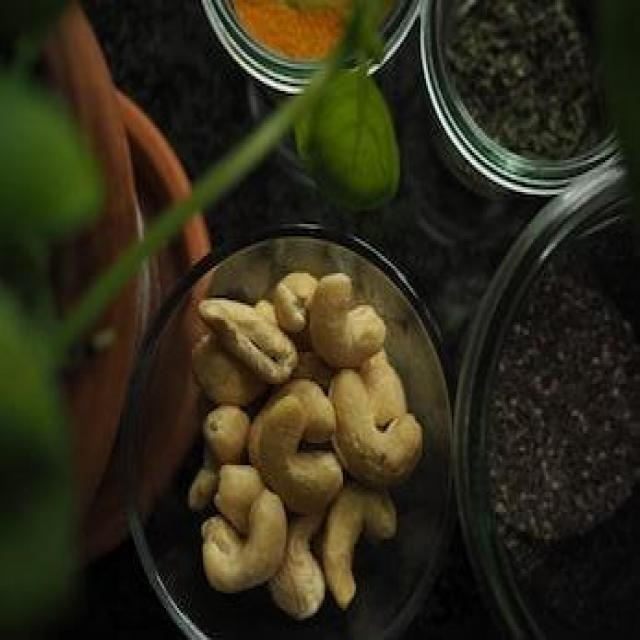Cashew: (331, 356, 424, 488), (209, 297, 296, 388), (271, 385, 325, 498), (314, 285, 403, 350), (228, 500, 286, 589), (281, 542, 339, 618), (335, 499, 384, 587)
